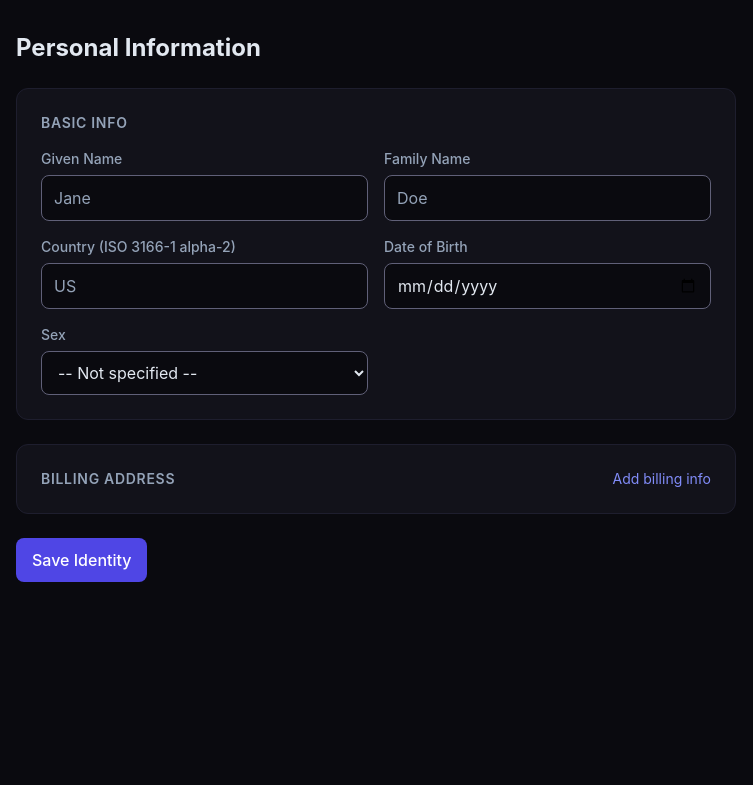
Test: IdentityView › shows billing section when toggle clicked
Click the button "Add billing info".
click(662, 479)  # box [612,469,711,489]
(page scrolled)
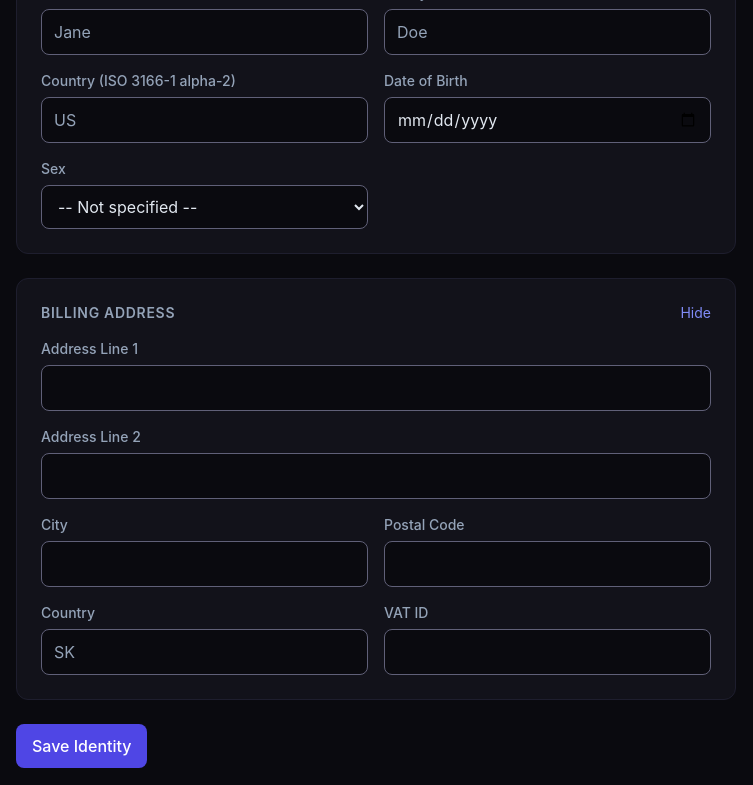
Result: the field with placeholder "SK" is shown at [41,629,368,675]
